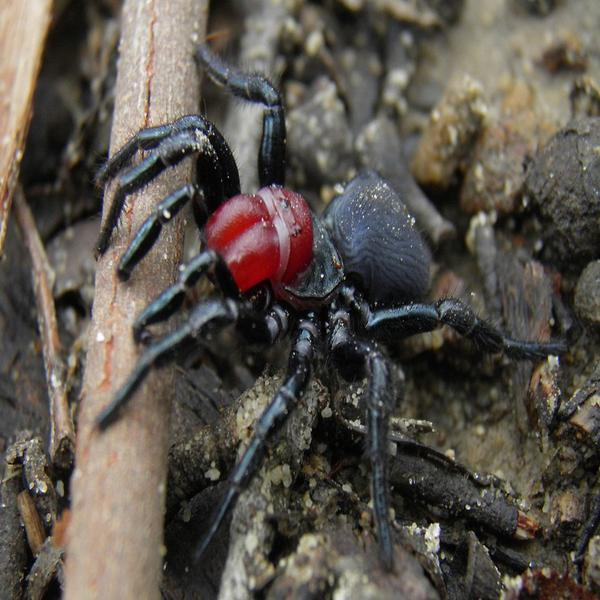Red Headed Mouse Spider: (96, 44, 545, 554)
